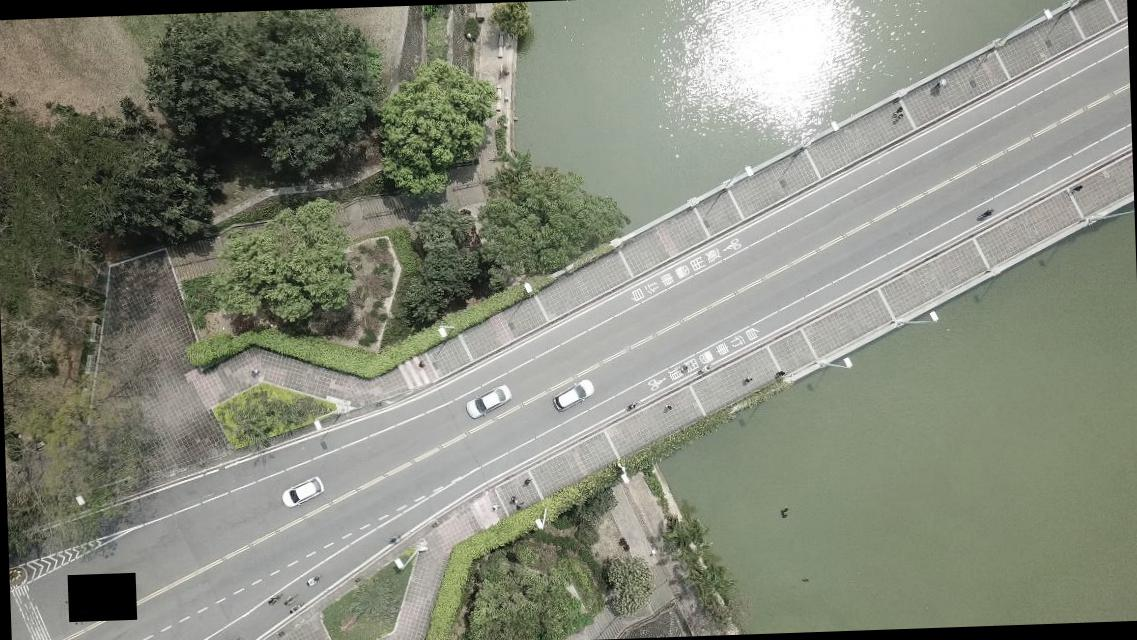vehicle: (464, 383, 512, 419), (550, 379, 594, 412), (280, 475, 324, 507)
